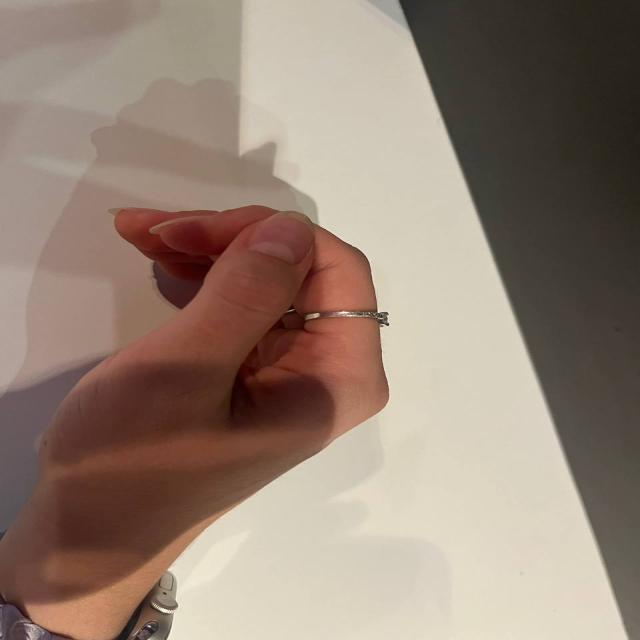f: (51, 184, 418, 508)
